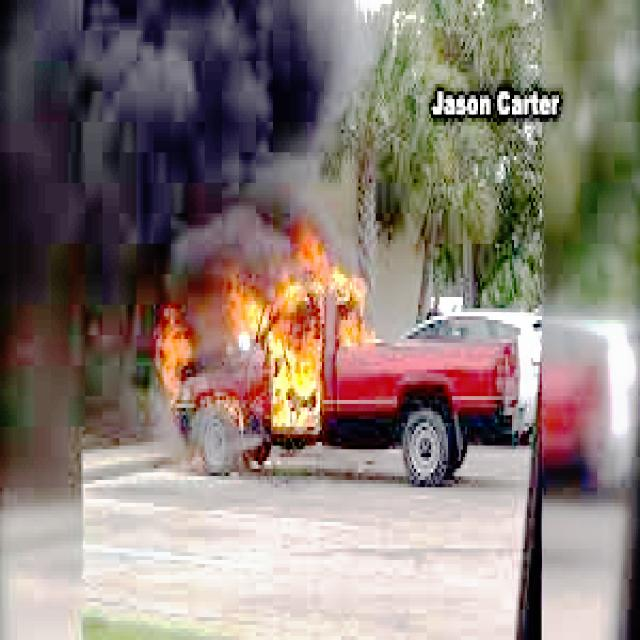api: (140, 245, 379, 470)
